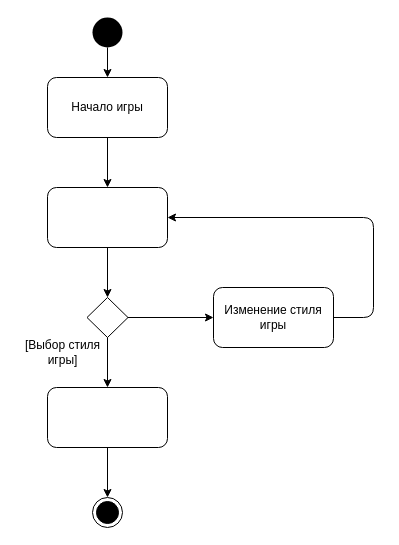
Some shapes in this 399 by 545 pixel diagram are drawn without their labels. The shapes that lost their labels are listed below. From the top down, each one's centre as x and y in pixels, then its label:
At [107,217]: "Настройки стиля".
At [107,417]: "Переход в меню".
